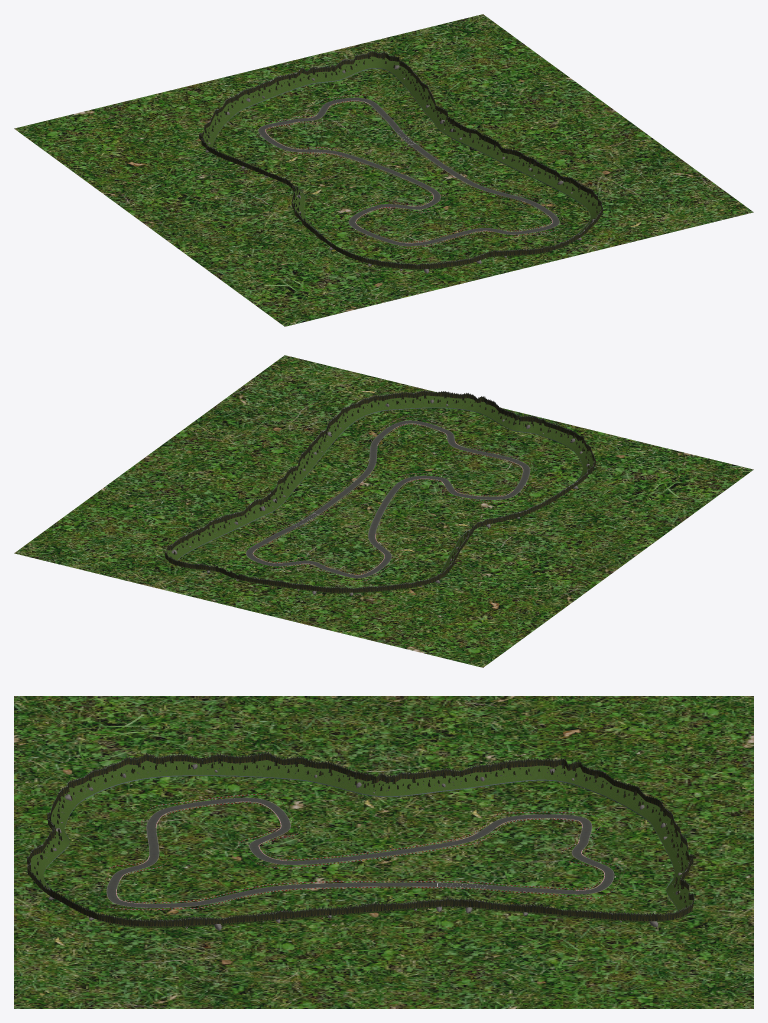
3 renders of one model, top to bottom at view 1: azimuth 30°, elevation 25°; view 2: azimuth 150°, elevation 25°; view 3: azimuth 270°, elevation 25°, orthographic. The views are drawn at different scales.
Parts seen in each view (by area): view 1: Plane, RaceTrack_Wall_00, RaceTrack_Main_00; view 2: Plane, RaceTrack_Wall_00, RaceTrack_Main_00; view 3: Plane, RaceTrack_Wall_00, RaceTrack_Main_00.
Boxes of the visible parts, x1=… form: Plane: x1=14, y1=14, x2=753, y2=326; RaceTrack_Wall_00: x1=199, y1=50, x2=602, y2=269; RaceTrack_Main_00: x1=258, y1=97, x2=559, y2=246; Plane: x1=14, y1=355, x2=753, y2=667; RaceTrack_Wall_00: x1=165, y1=389, x2=595, y2=593; RaceTrack_Main_00: x1=246, y1=420, x2=530, y2=578; Plane: x1=14, y1=696, x2=753, y2=1008; RaceTrack_Wall_00: x1=27, y1=751, x2=694, y2=928; RaceTrack_Main_00: x1=106, y1=797, x2=614, y2=907.
Bounding box in the file's own units: 1200 × 35.27 × 1200.
